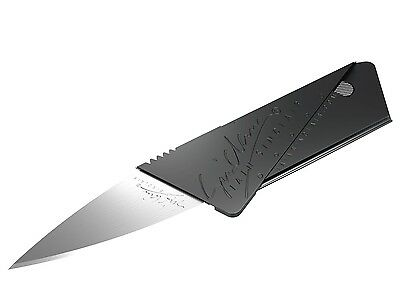knief: (8, 59, 390, 272)
